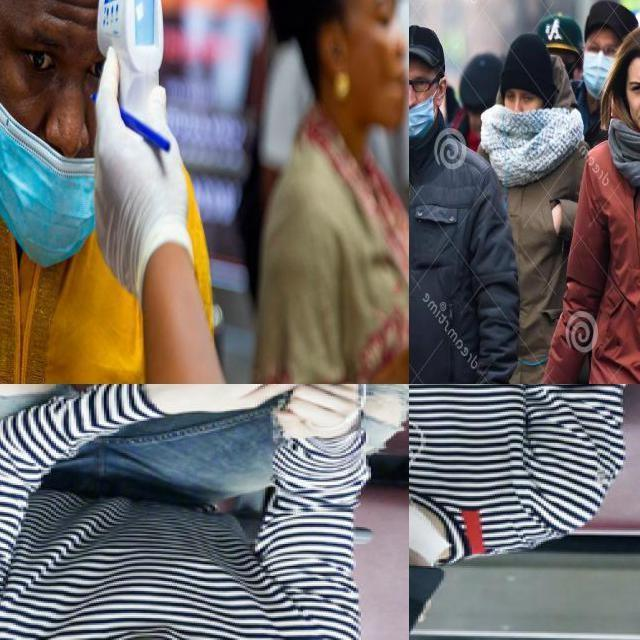hairnet: (0, 101, 98, 272), (409, 92, 433, 138)
